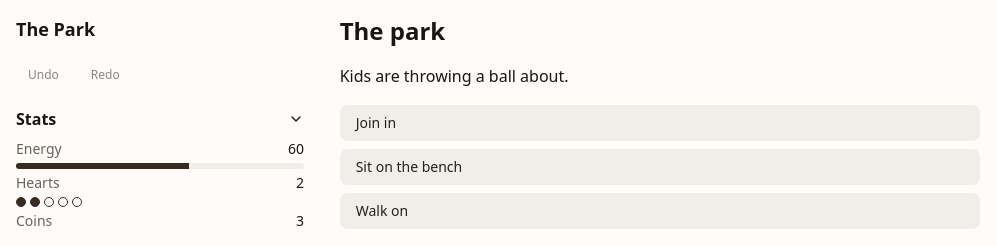
it: the minigame panel › can be replaced for every minigame through components
Click the button "Join in": (376, 122) [340, 105, 980, 141]
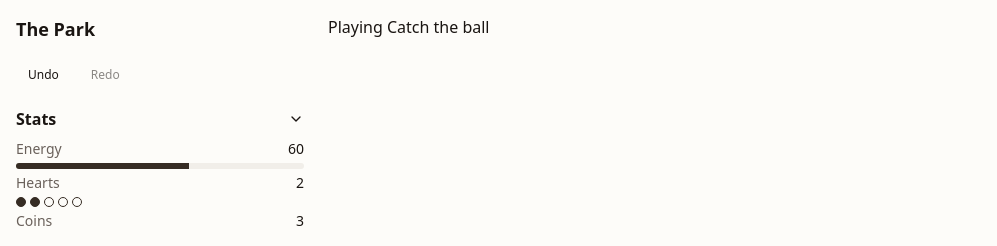
Now the text "Playing Catch the ball" is shown, box [328, 16, 490, 38]
